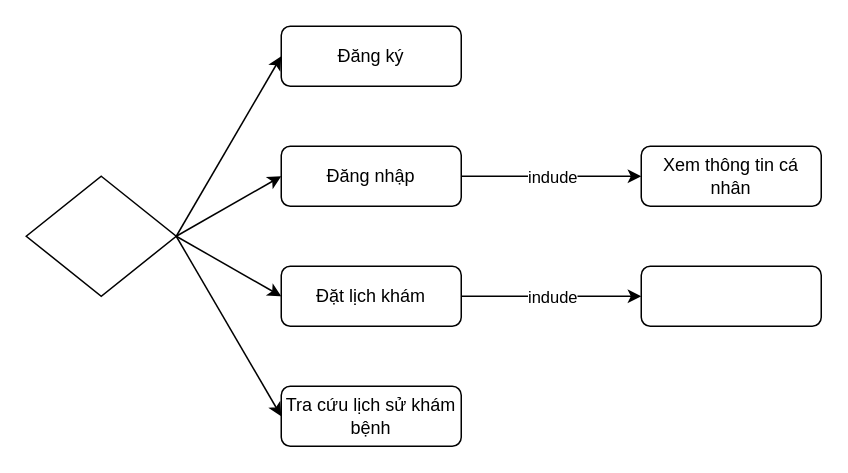
Some shapes in this 848 by 473 pixel diagram are drawn without their labels. Here are the shapes that lost their labels. From the top down, the centre of each, then its label:
At [100,235]: "Bệnh Nhân".
At [730,295]: "Nhận số thự tự vào phòng khám".
